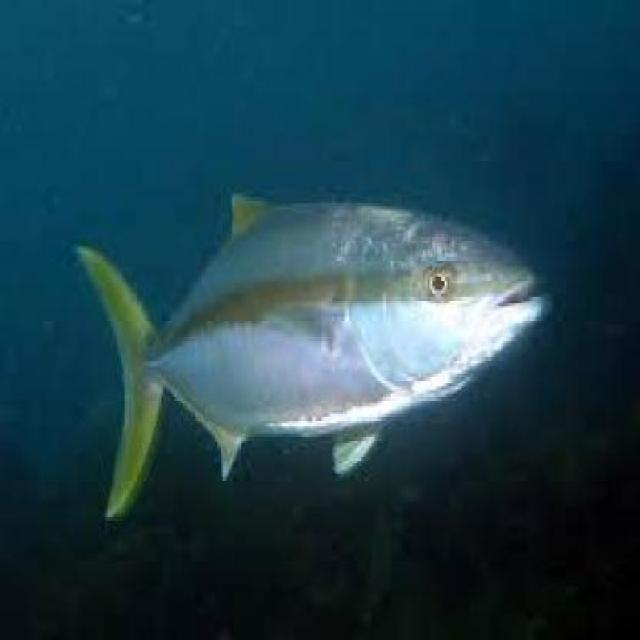Kingfish: (61, 180, 562, 531)
